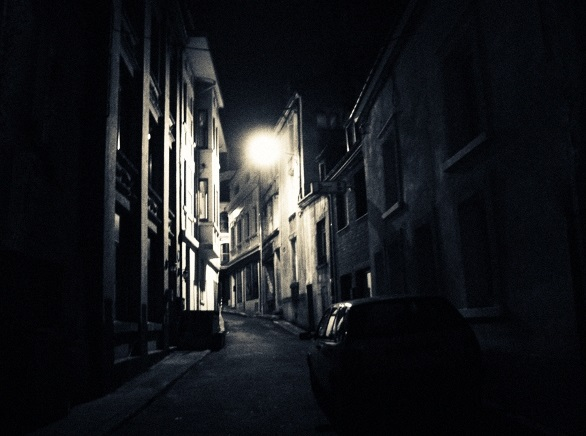car: (295, 294, 497, 423)
